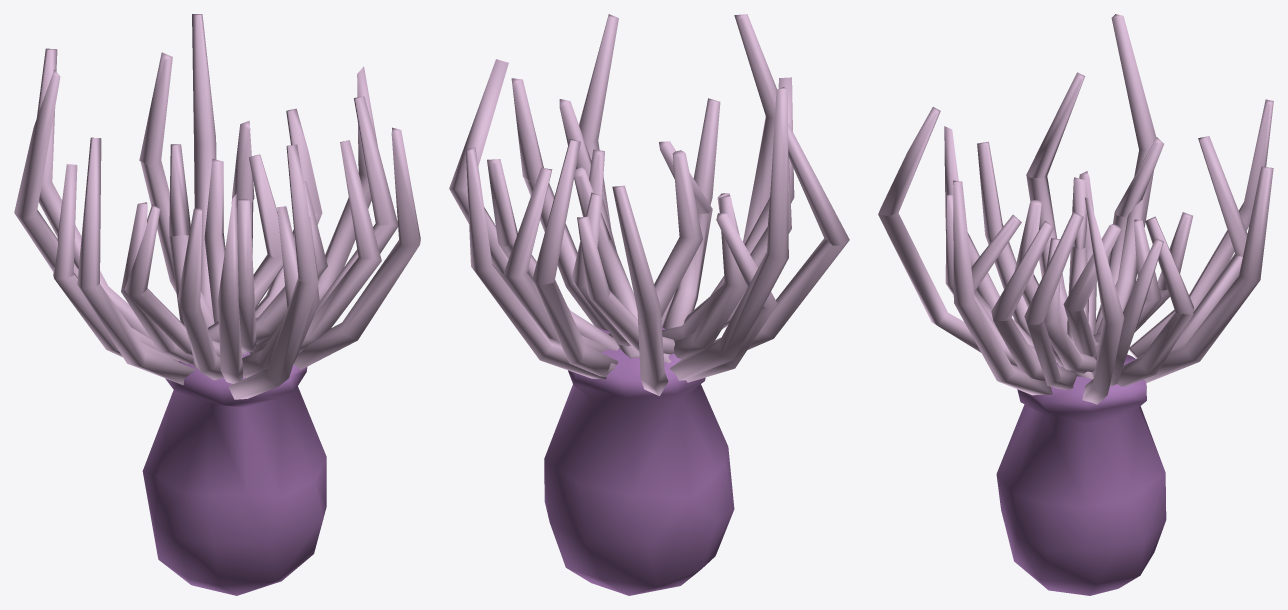
The model's file is Anemone.glb.
3 views of the same model, side by side, from view 1: azimuth 30°, elevation 25°; view 2: azimuth 150°, elevation 25°; view 3: azimuth 270°, elevation 25° (orthographic). The views are drawn at different scales.
Parts seen in each view (by area): view 1: Anemone; view 2: Anemone; view 3: Anemone.
Boxes of the visible parts, left/top/right/bottom form: Anemone: left=14, top=14, right=420, bottom=595; Anemone: left=449, top=14, right=849, bottom=595; Anemone: left=878, top=14, right=1273, bottom=595.
Bounding box in the file's own units: 0.41 × 0.6003 × 0.4395.
